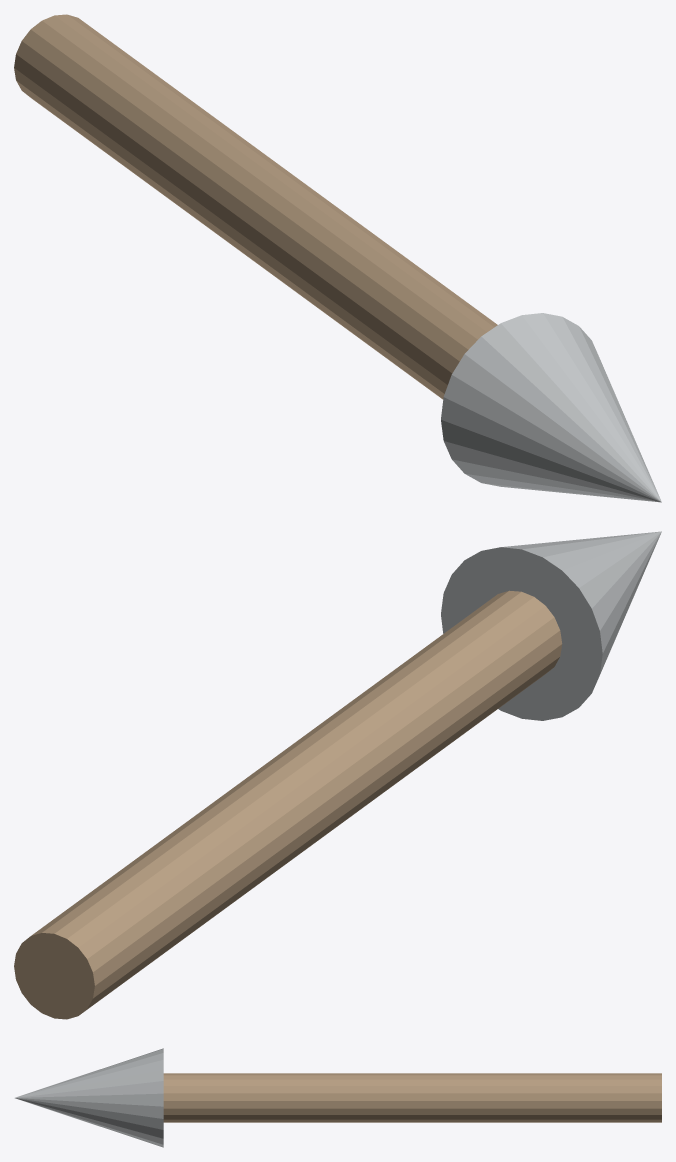
The model's file is arrow.glb.
3 renders of one model, top to bottom at view 1: azimuth 30°, elevation 25°; view 2: azimuth 150°, elevation 25°; view 3: azimuth 270°, elevation 25°, orthographic. The views are drawn at different scales.
Parts seen in each view (by area): view 1: Mesh_Mesh_head_geo.001_lambert2SG.001; view 2: Mesh_Mesh_head_geo.001_lambert2SG.001; view 3: Mesh_Mesh_head_geo.001_lambert2SG.001.
Part boxes in pixels (x1=…): Mesh_Mesh_head_geo.001_lambert2SG.001: x1=14, y1=14, x2=661, y2=502; Mesh_Mesh_head_geo.001_lambert2SG.001: x1=14, y1=531, x2=661, y2=1019; Mesh_Mesh_head_geo.001_lambert2SG.001: x1=15, y1=1048, x2=661, y2=1147.
Bounding box in the file's own units: 4 × 4 × 26.
